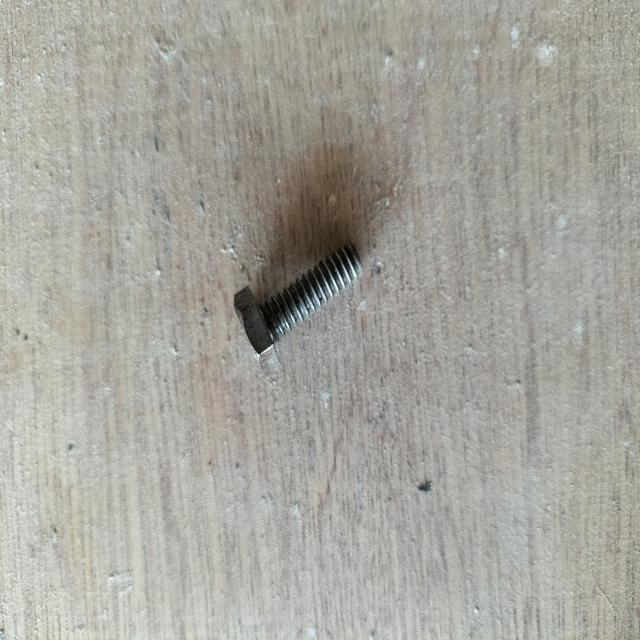bolt: (233, 244, 364, 375)
